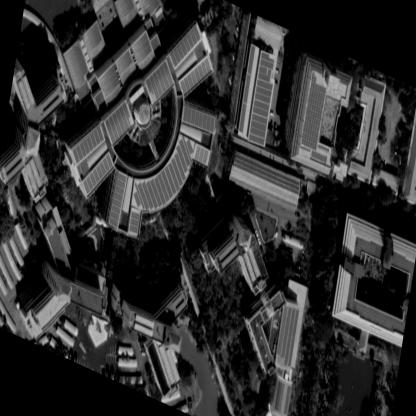solar-pv-panel: (134, 136, 193, 210), (248, 51, 274, 145), (301, 72, 326, 151), (238, 44, 255, 133), (277, 306, 299, 367), (170, 24, 201, 66), (83, 153, 113, 194), (72, 126, 104, 164), (180, 58, 212, 95), (105, 102, 131, 144), (146, 61, 173, 99), (109, 172, 127, 227), (183, 106, 215, 132), (129, 211, 140, 234), (311, 151, 327, 164)
